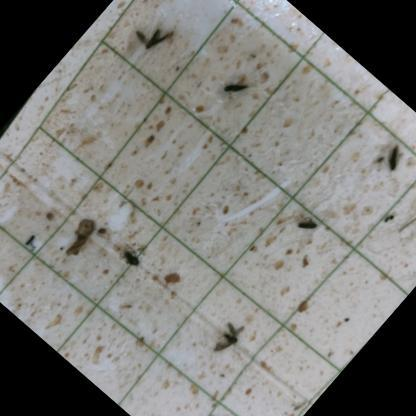prays_oleae: (202, 312, 253, 364), (128, 12, 176, 60), (376, 139, 412, 177), (220, 70, 254, 105), (116, 240, 150, 274), (292, 212, 322, 242), (190, 407, 231, 416)
